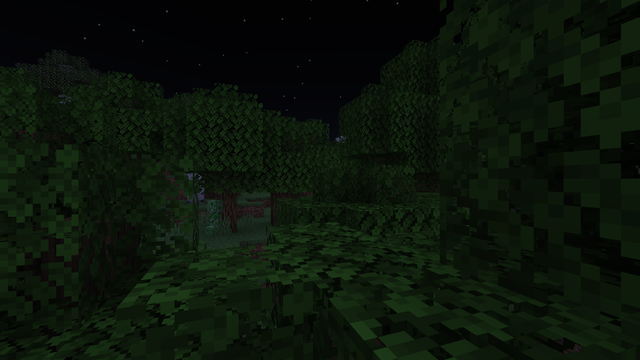creepers: (208, 198, 221, 235)
